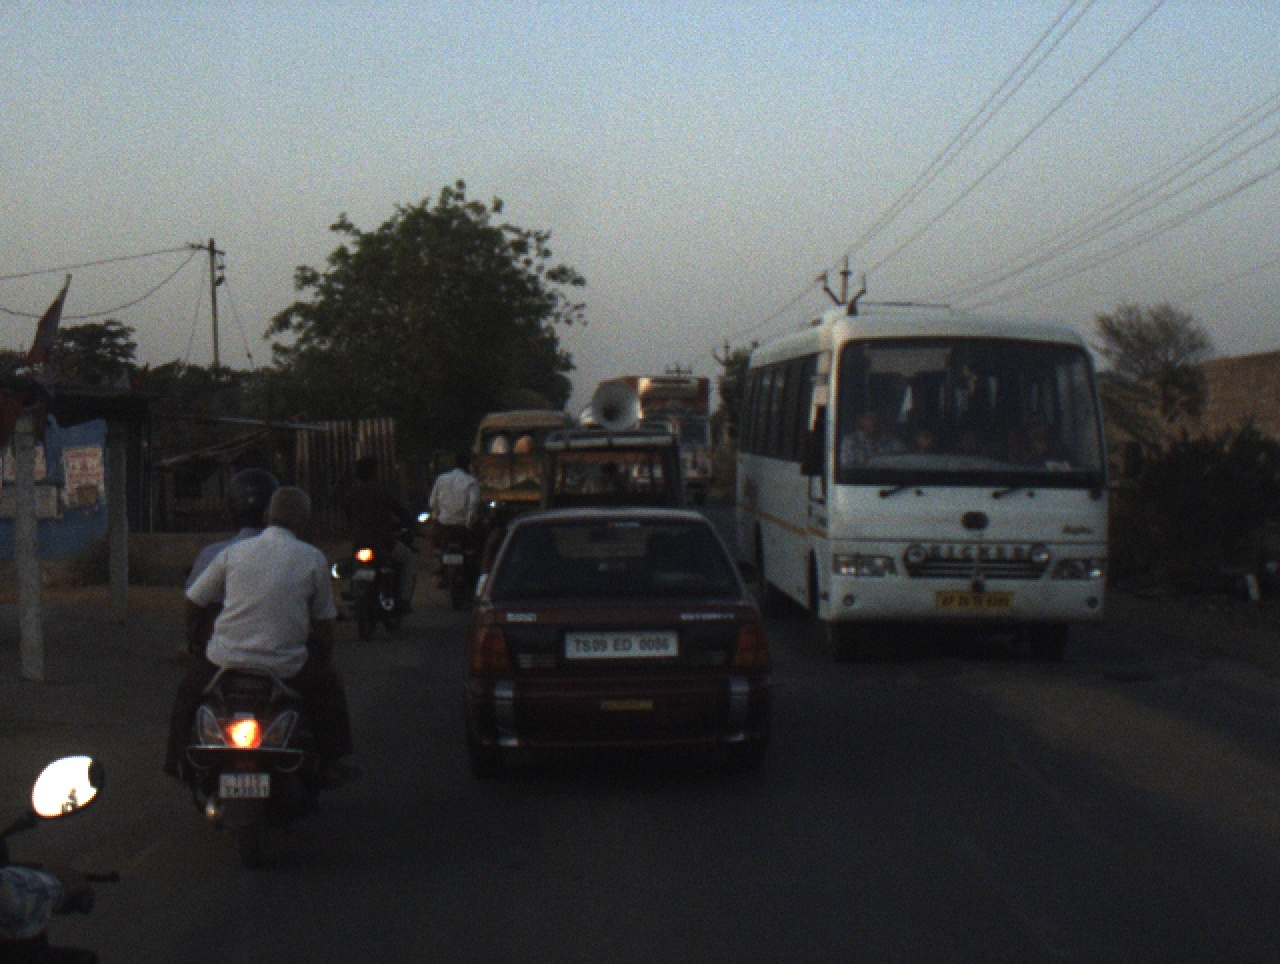autorickshaw: (542, 379, 685, 515)
bus: (732, 306, 1148, 669)
car: (471, 506, 778, 781)
motorcycle: (185, 646, 327, 871), (4, 750, 129, 960), (336, 501, 434, 651), (431, 492, 506, 608)
rider: (157, 486, 364, 793), (186, 468, 275, 654), (336, 457, 425, 620), (2, 847, 87, 960), (428, 446, 486, 590)
truck: (616, 376, 728, 505)
vehicle fallback: (431, 406, 578, 536)
